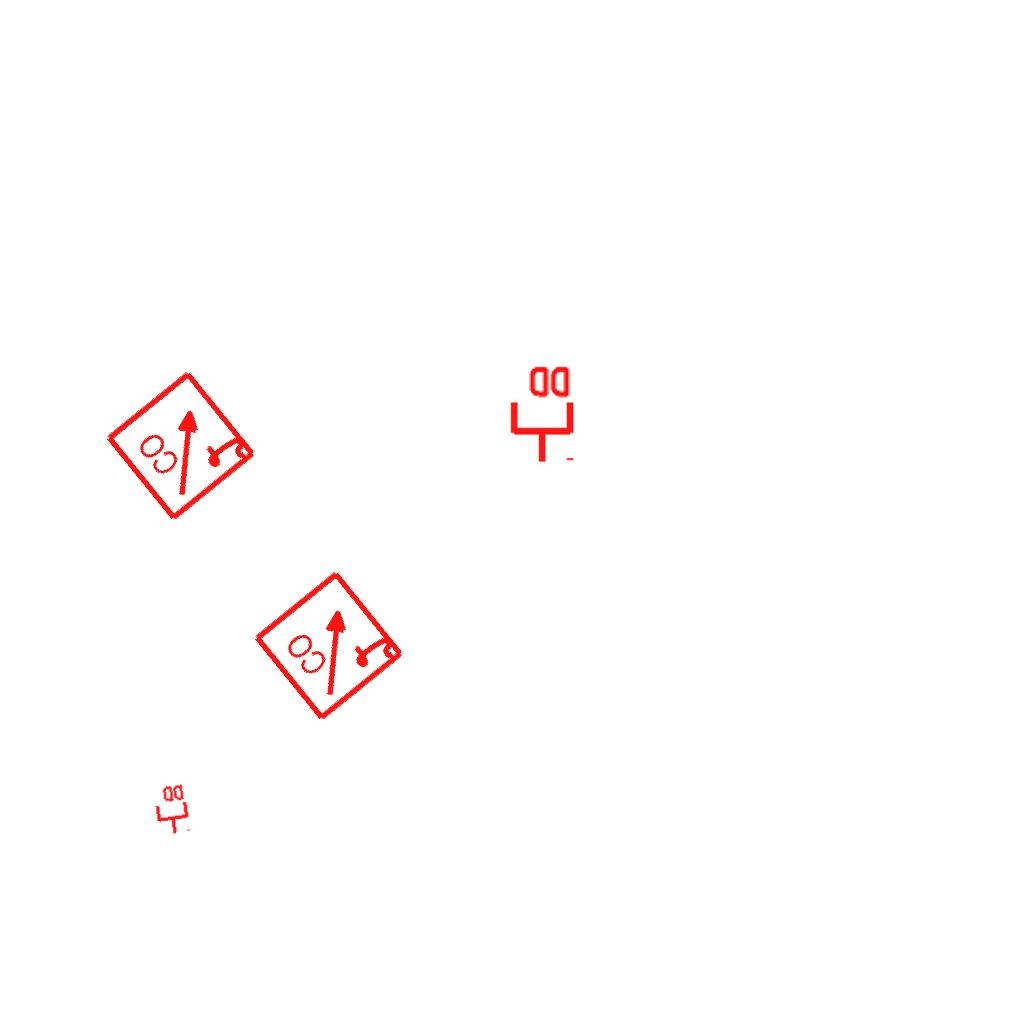Datenanschluss_zweifach: (506, 362, 575, 465), (150, 781, 192, 838)
ROA_Rauchmelder_optisch_mit_Signalgeber_(Sockelsirene): (102, 365, 261, 524), (250, 565, 409, 724)
